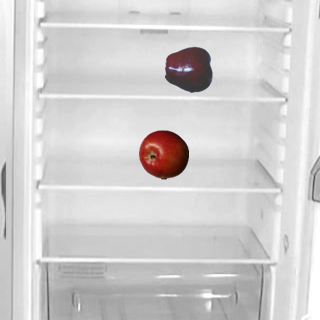Apple Braeburn: (138, 129, 188, 179)
Apple Red Delicious: (164, 44, 214, 94)
